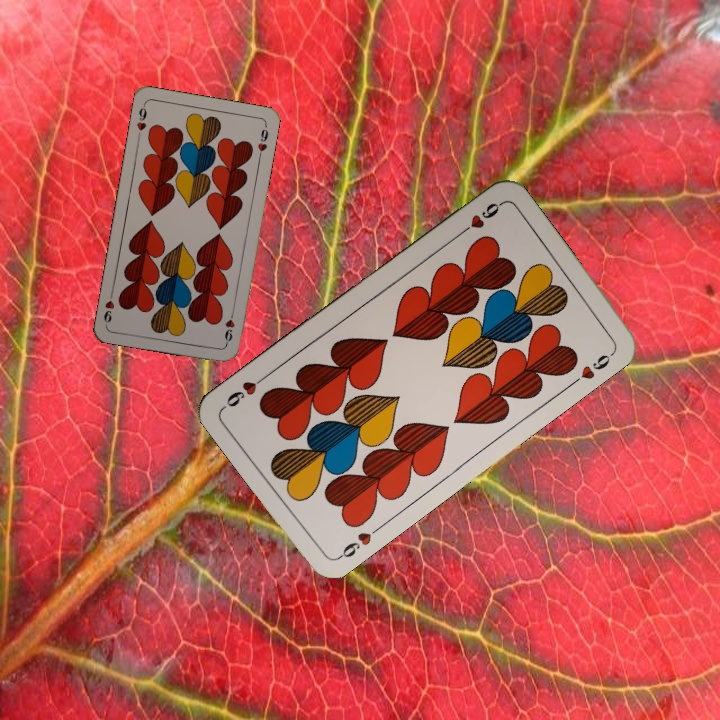H9: (454, 198, 505, 239), (333, 522, 384, 562), (133, 100, 149, 141), (221, 307, 237, 347)
